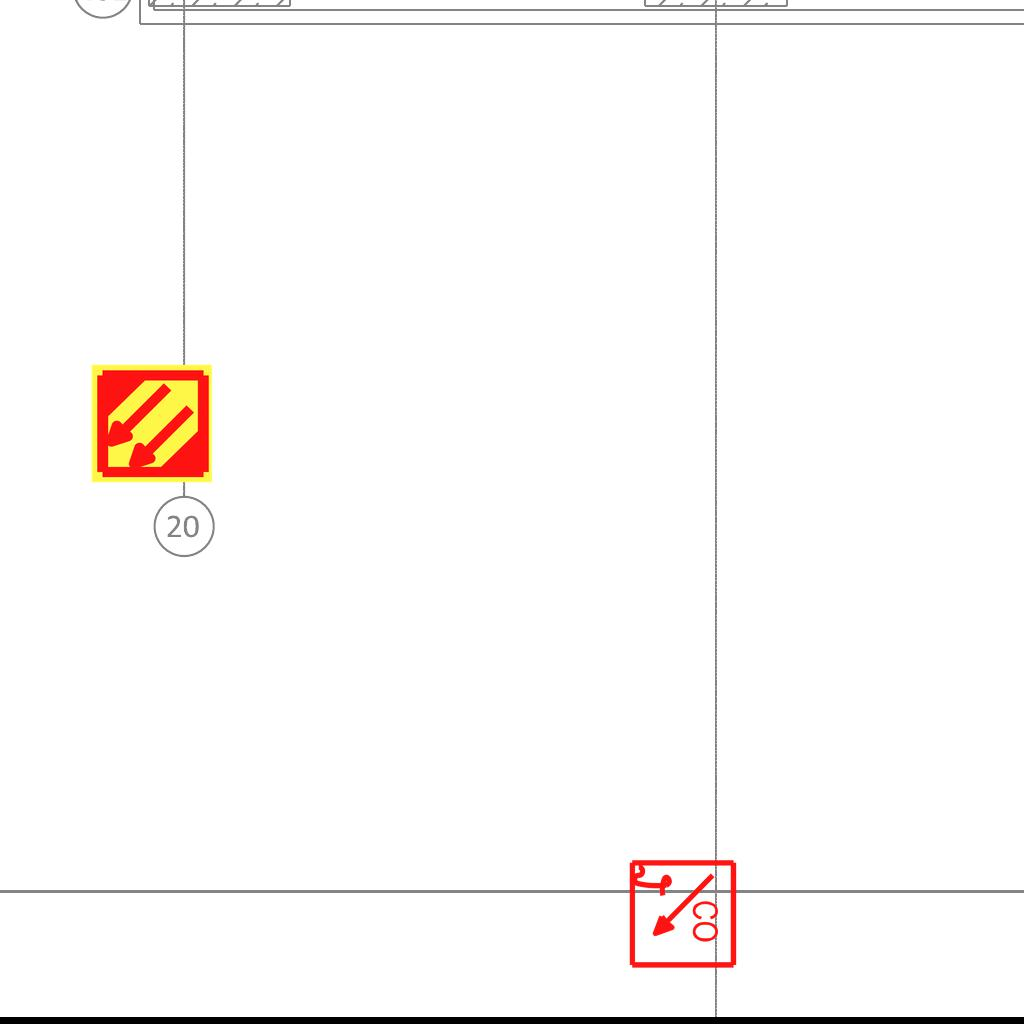ASR_Ansaugrauchmelder: (89, 361, 214, 486)
ROA_Rauchmelder_optisch_mit_Signalgeber_(Sockelsirene): (625, 858, 738, 971)
